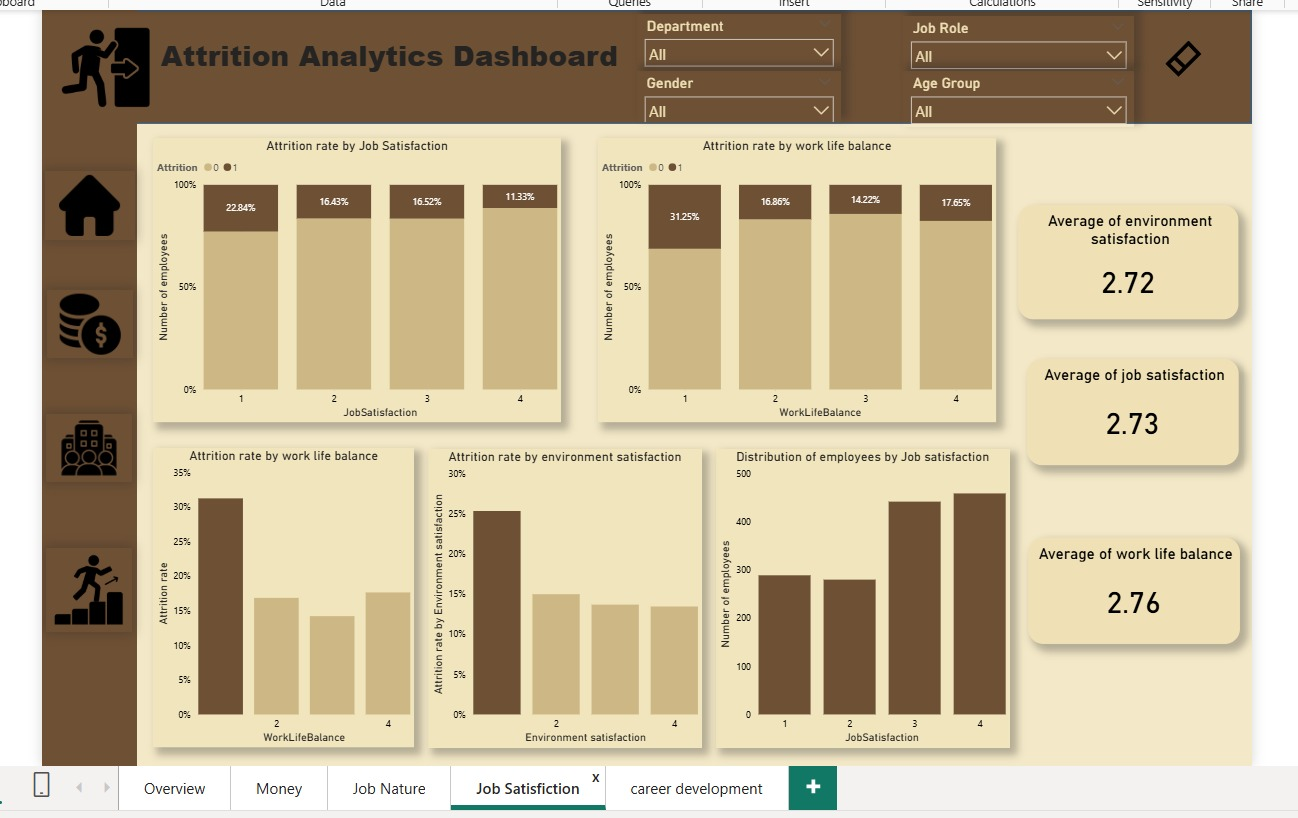

The dashboard page shown, as its layout file describes it:
{"tool":"powerbi","page":{"name":"Job Satisfiction","canvas":[1600,1000],"ordinal":3},"visuals":[{"type":"clusteredColumnChart","title":"Distribution of employees by Job satisfaction","fields":{"Category":["HR-Employee-Attrition.JobSatisfaction"],"Y":["CountNonNull(HR-Employee-Attrition.EmployeeNumber)"]},"box":[891.4,579.8,388.7,395.4],"z":0},{"type":"hundredPercentStackedColumnChart","title":"Attrition rate by Job Satisfaction","fields":{"Category":["HR-Employee-Attrition.JobSatisfaction"],"Series":["HR-Employee-Attrition.Attrition"],"Y":["CountNonNull(HR-Employee-Attrition.EmployeeNumber)"]},"box":[147.5,169.2,539.5,377],"z":1000},{"type":"hundredPercentStackedColumnChart","title":"Attrition rate by work life balance","fields":{"Category":["HR-Employee-Attrition.WorkLifeBalance"],"Series":["HR-Employee-Attrition.Attrition"],"Y":["CountNonNull(HR-Employee-Attrition.EmployeeNumber)"]},"box":[735.6,169.2,526.1,377],"z":2000},{"type":"card","title":"Average of environment satisfaction","fields":{"Values":["Avg(HR-Employee-Attrition.EnvironmentSatisfaction)"]},"box":[1291.9,258,291.6,150.8],"z":3000},{"type":"card","title":"Average of job satisfaction","fields":{"Values":["Avg(HR-Employee-Attrition.JobSatisfaction)"]},"box":[1303.6,460.8,279.8,140.8],"z":4000},{"type":"card","title":"Average of work life balance","fields":{"Values":["Avg(HR-Employee-Attrition.WorkLifeBalance)"]},"box":[1305.3,697.1,279.8,140.8],"z":5000},{"type":"clusteredColumnChart","title":"Attrition rate by environment satisfaction","fields":{"Y":["measures (2).Attrition % by env_satisfiction"],"Category":["HR-Employee-Attrition.EnvironmentSatisfaction"]},"box":[511.1,579.8,361.9,395.4],"z":6000},{"type":"clusteredColumnChart","title":"Attrition rate by work life balance","fields":{"Y":["measures (2).Attrition % by balance"],"Category":["HR-Employee-Attrition.WorkLifeBalance"]},"box":[147.5,578.1,345.2,397.1],"z":7000},{"type":"shape","box":[0,0,1600.5,150.5],"z":8000},{"type":"shape","box":[0,0,125.7,1000.3],"z":9000},{"type":"textbox","box":[152.5,28.5,635.1,73.7],"z":10000},{"type":"image","box":[21.5,11.6,125.7,129],"z":11000},{"type":"slicer","fields":{"Values":["HR-Employee-Attrition.Department"]},"box":[787.5,5,269.8,72.1],"z":12000},{"type":"slicer","fields":{"Values":["HR-Employee-Attrition.Gender"]},"box":[787.5,80.4,269.8,67],"z":13000},{"type":"slicer","fields":{"Values":["HR-Employee-Attrition.JobRole"]},"box":[1139.4,8.4,305,72.1],"z":14000},{"type":"slicer","fields":{"Values":["HR-Employee-Attrition.Age Group"]},"box":[1139.4,80.4,305,73.7],"z":15000},{"type":"actionButton","box":[1472.9,28.5,83.8,73.7],"z":16000},{"type":"image","box":[5,534.5,113.9,90.5],"z":17000},{"type":"image","box":[5,710.5,113.9,112.3],"z":18000},{"type":"image","box":[3.4,212.8,119,90.5],"z":19000},{"type":"image","box":[6.7,370.3,113.9,90.5],"z":20000}]}

Visuals, with their boxes on the page's 1600x1000 design canvas (x1, y1, x2, y2). These are canvas units, not pixel positions in the 1298x818 screenshot, which may show the page scaled, cropped or inside an application window:
"Distribution of employees by Job satisfaction" clusteredColumnChart: <bbox>891, 580, 1280, 975</bbox>
"Attrition rate by Job Satisfaction" hundredPercentStackedColumnChart: <bbox>148, 169, 687, 546</bbox>
"Attrition rate by work life balance" hundredPercentStackedColumnChart: <bbox>736, 169, 1262, 546</bbox>
"Average of environment satisfaction" card: <bbox>1292, 258, 1584, 409</bbox>
"Average of job satisfaction" card: <bbox>1304, 461, 1583, 602</bbox>
"Average of work life balance" card: <bbox>1305, 697, 1585, 838</bbox>
"Attrition rate by environment satisfaction" clusteredColumnChart: <bbox>511, 580, 873, 975</bbox>
"Attrition rate by work life balance" clusteredColumnChart: <bbox>148, 578, 493, 975</bbox>
shape: <bbox>0, 0, 1600, 150</bbox>
shape: <bbox>0, 0, 126, 1000</bbox>
textbox: <bbox>152, 28, 788, 102</bbox>
image: <bbox>22, 12, 147, 141</bbox>
slicer - HR-Employee-Attrition.Department: <bbox>788, 5, 1057, 77</bbox>
slicer - HR-Employee-Attrition.Gender: <bbox>788, 80, 1057, 147</bbox>
slicer - HR-Employee-Attrition.JobRole: <bbox>1139, 8, 1444, 80</bbox>
slicer - HR-Employee-Attrition.Age Group: <bbox>1139, 80, 1444, 154</bbox>
actionButton: <bbox>1473, 28, 1557, 102</bbox>
image: <bbox>5, 534, 119, 625</bbox>
image: <bbox>5, 710, 119, 823</bbox>
image: <bbox>3, 213, 122, 303</bbox>
image: <bbox>7, 370, 121, 461</bbox>
